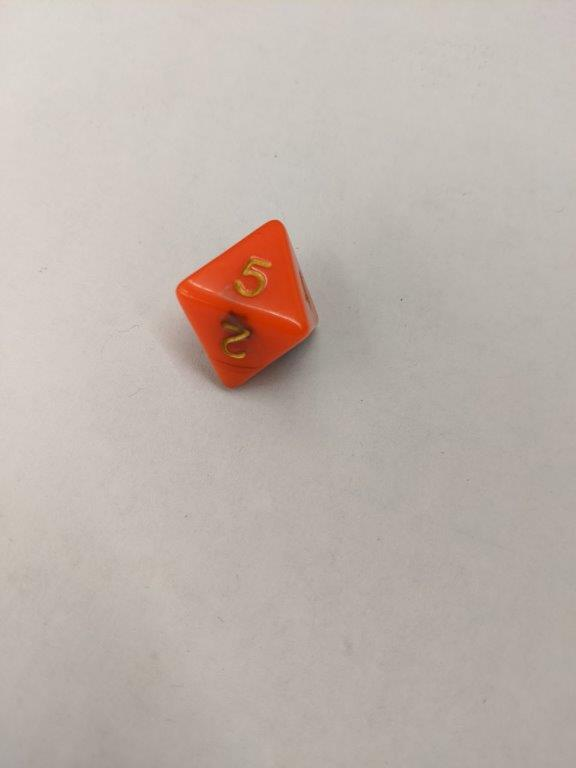d8-5: (172, 218, 320, 392)
